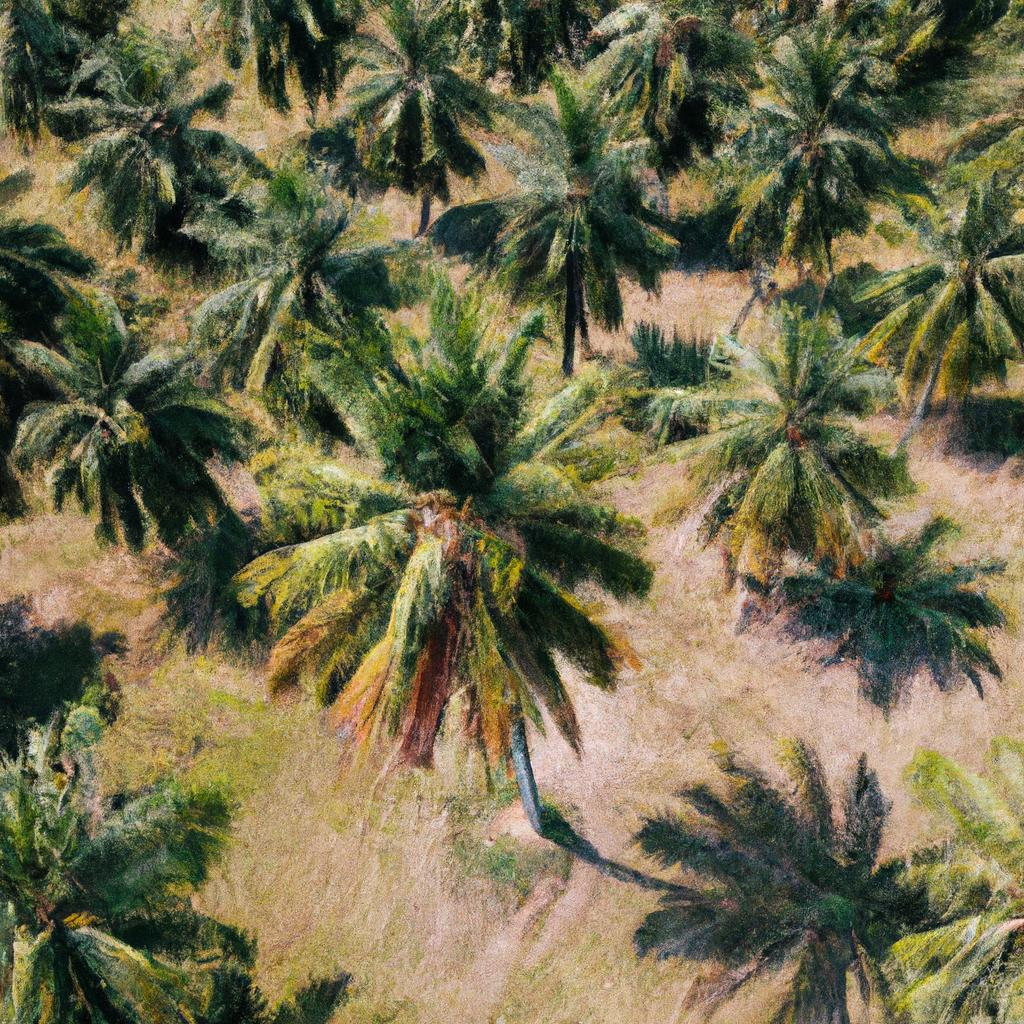coconut_tree: (247, 270, 692, 813), (671, 267, 951, 667), (11, 248, 278, 569), (451, 47, 741, 326), (324, 1, 512, 208)
